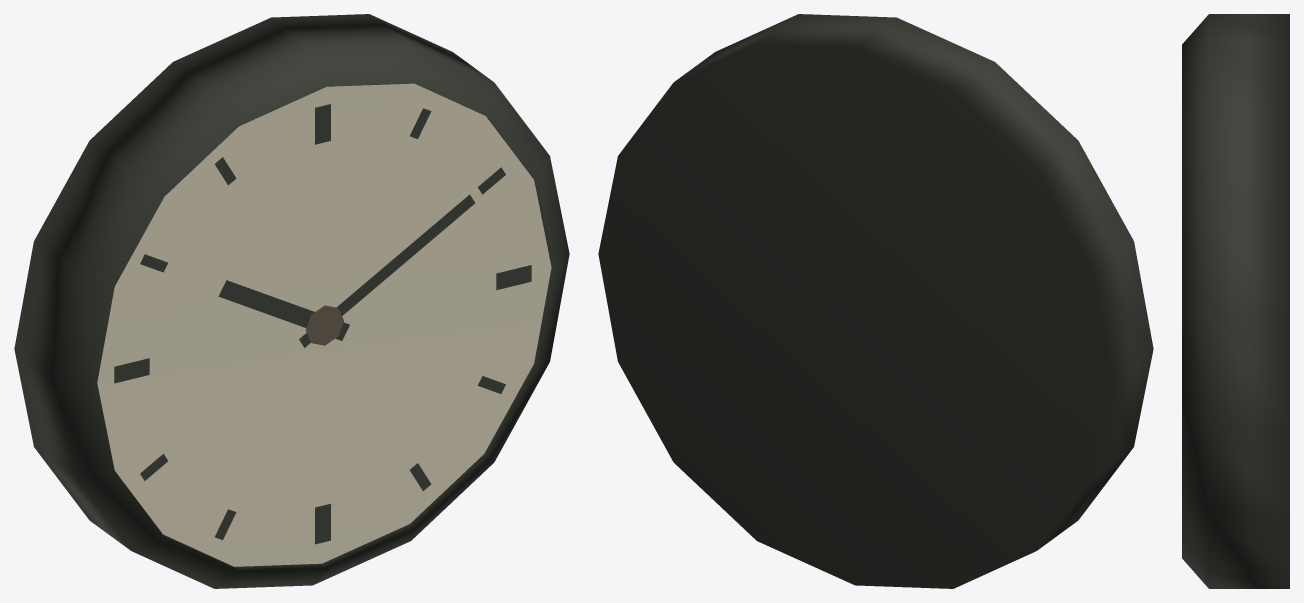
File: Diner_Wall_Clock.fbx
3 views of the same model, side by side, from view 1: azimuth 30°, elevation 25°; view 2: azimuth 150°, elevation 25°; view 3: azimuth 270°, elevation 25° (orthographic). The views are drawn at different scales.
Visible parts, largest first — view 1: Diner_Wall_Clock; view 2: Diner_Wall_Clock; view 3: Diner_Wall_Clock.
Part boxes in pixels (x1,y1,x2,y2): Diner_Wall_Clock: (14,14,569,588); Diner_Wall_Clock: (598,14,1153,588); Diner_Wall_Clock: (1182,14,1289,588).
Size of the model in its own units: 0.32 by 0.32 by 0.06.
